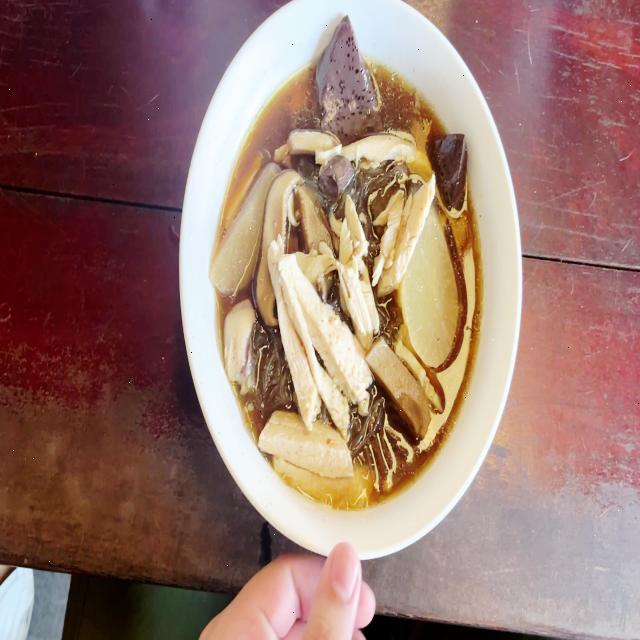boiled_chicken_blood_jelly: (315, 20, 373, 136), (428, 126, 469, 207), (321, 156, 353, 203)
chicken_shredded: (273, 246, 359, 417), (265, 413, 369, 505), (373, 177, 430, 290), (337, 199, 373, 341), (283, 130, 418, 166), (221, 301, 256, 380)
daikon_radish: (214, 171, 272, 293), (412, 239, 458, 363)
noodle: (218, 60, 486, 512)
